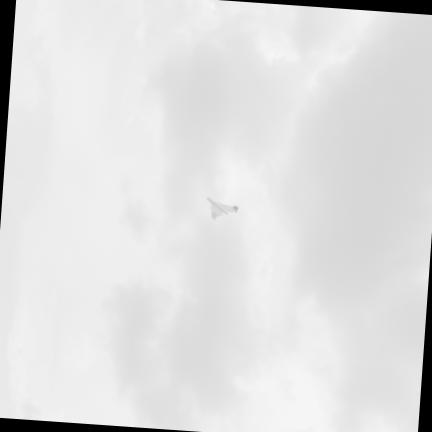Shahed: (206, 198, 237, 219)
